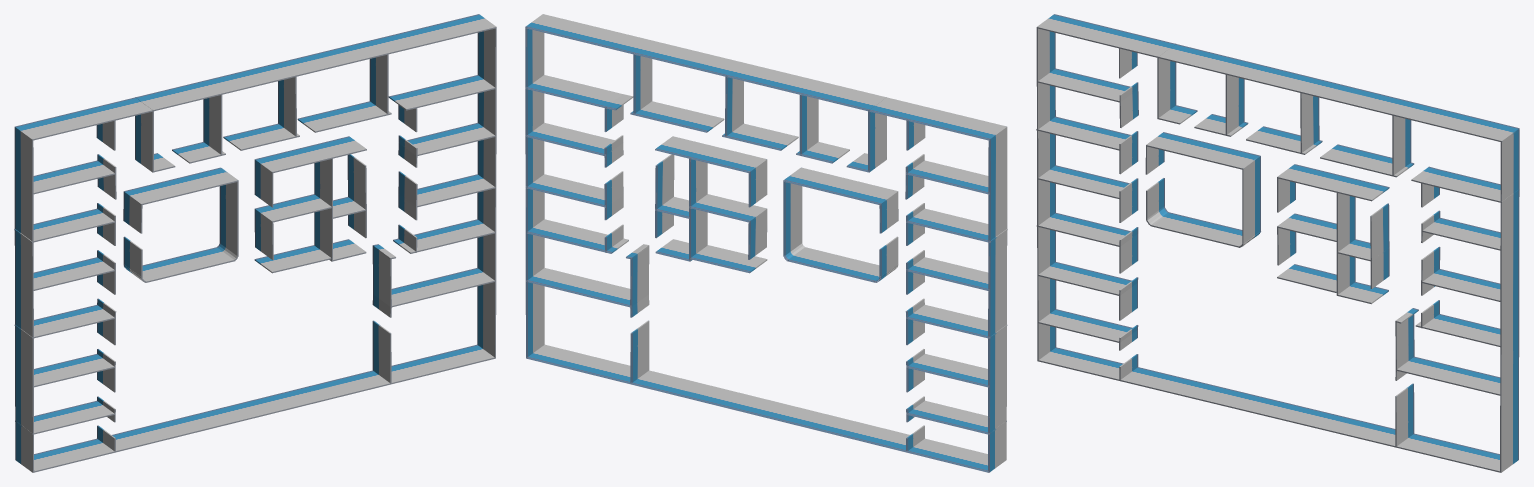
The model's file is wall_1.obj.
3 views of the same model, side by side, from view 1: azimuth 30°, elevation 25°; view 2: azimuth 150°, elevation 25°; view 3: azimuth 330°, elevation 25° (orthographic).
Parts seen in each view (by area): view 1: walls; view 2: walls; view 3: walls.
Part boxes in pixels (left/top/right/bottom): walls: left=14, top=14, right=496, bottom=472; walls: left=525, top=14, right=1007, bottom=472; walls: left=1036, top=14, right=1519, bottom=472.
Bounding box in the file's own units: 37.98 × 26.04 × 2.5.
1 material, 1 textured.
